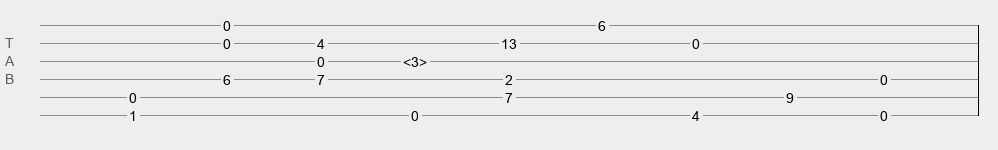0: (129, 90, 137, 100), (223, 18, 231, 28), (223, 36, 231, 46), (317, 54, 325, 64), (411, 108, 419, 118), (692, 36, 700, 46), (880, 72, 888, 82), (880, 108, 888, 118)
1: (129, 108, 137, 118)
13: (501, 36, 517, 46)
2: (505, 72, 513, 82)
4: (317, 36, 325, 46), (692, 108, 700, 118)
6: (223, 72, 231, 82), (598, 18, 606, 28)
7: (317, 72, 325, 82), (505, 90, 513, 100)
9: (786, 90, 794, 100)
harmonic: (403, 54, 427, 64)
